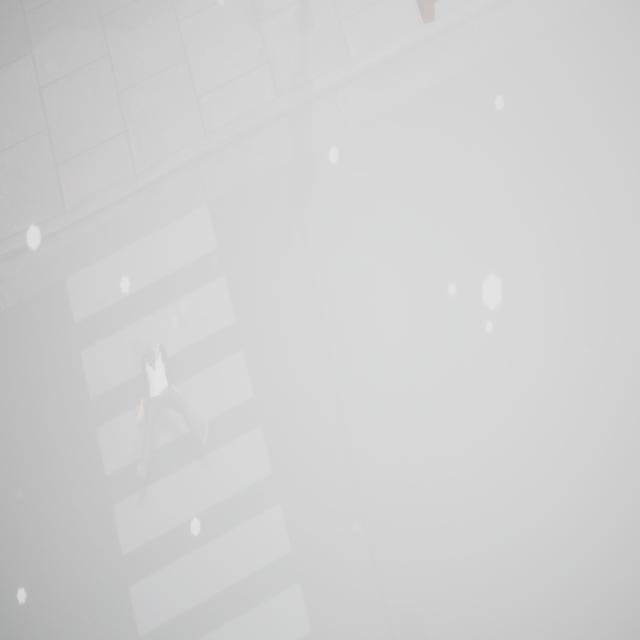Human: (122, 333, 210, 512)
